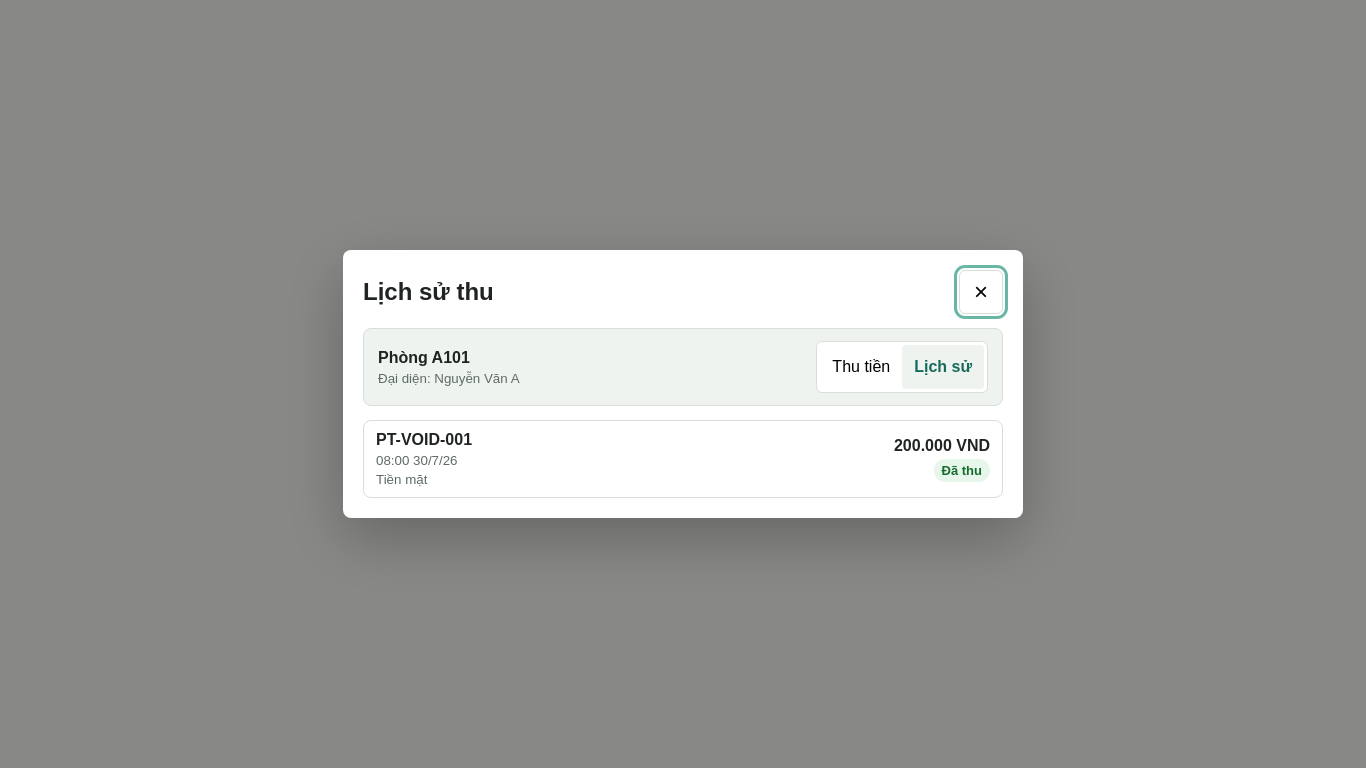
Test case: ReceiptDialog › voids an authorized confirmed receipt and refreshes history and detail
Click the button "PT-VOID-001 08:00 30/7/26 Tiền mặt 200.000 VND Đã thu".
click(424, 440)  # box [363,420,1003,498]
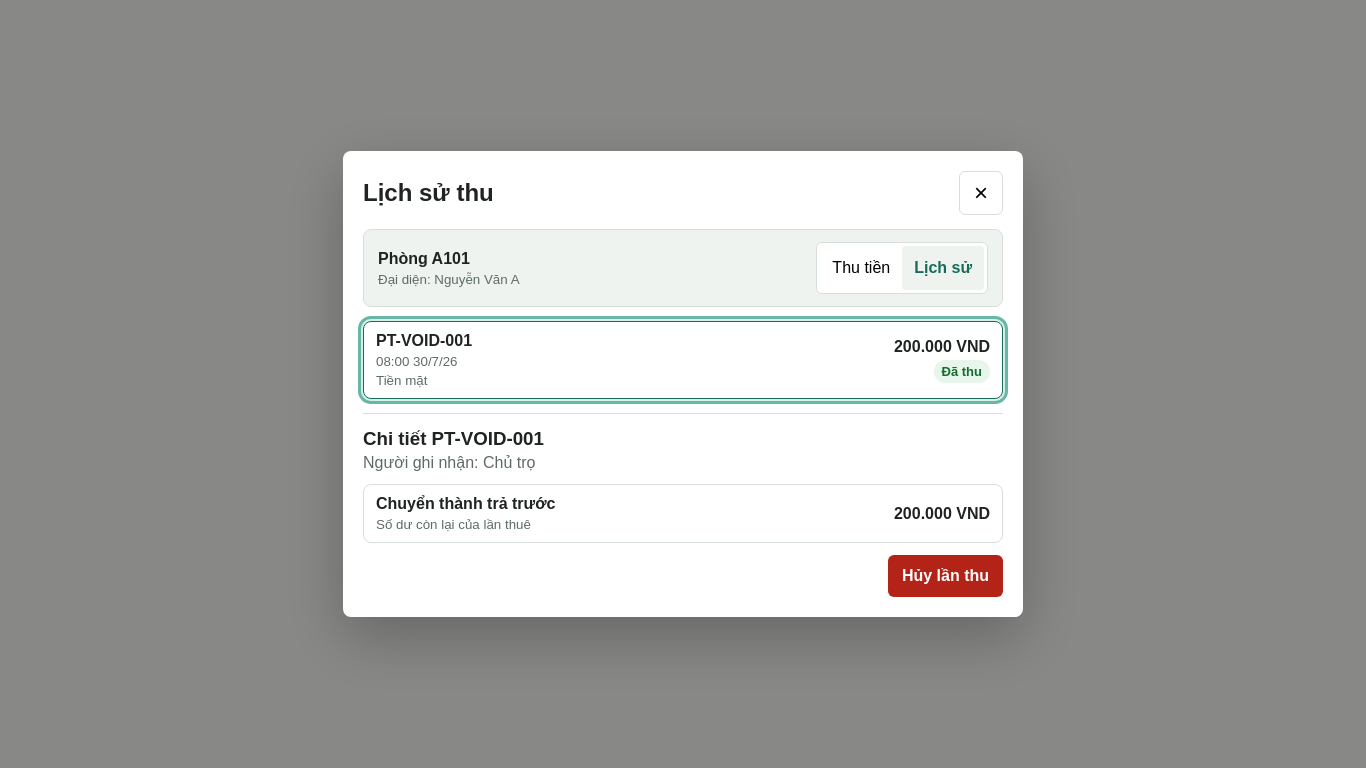
Click the button "Hủy lần thu".
click(945, 576)  # box [888,555,1003,597]
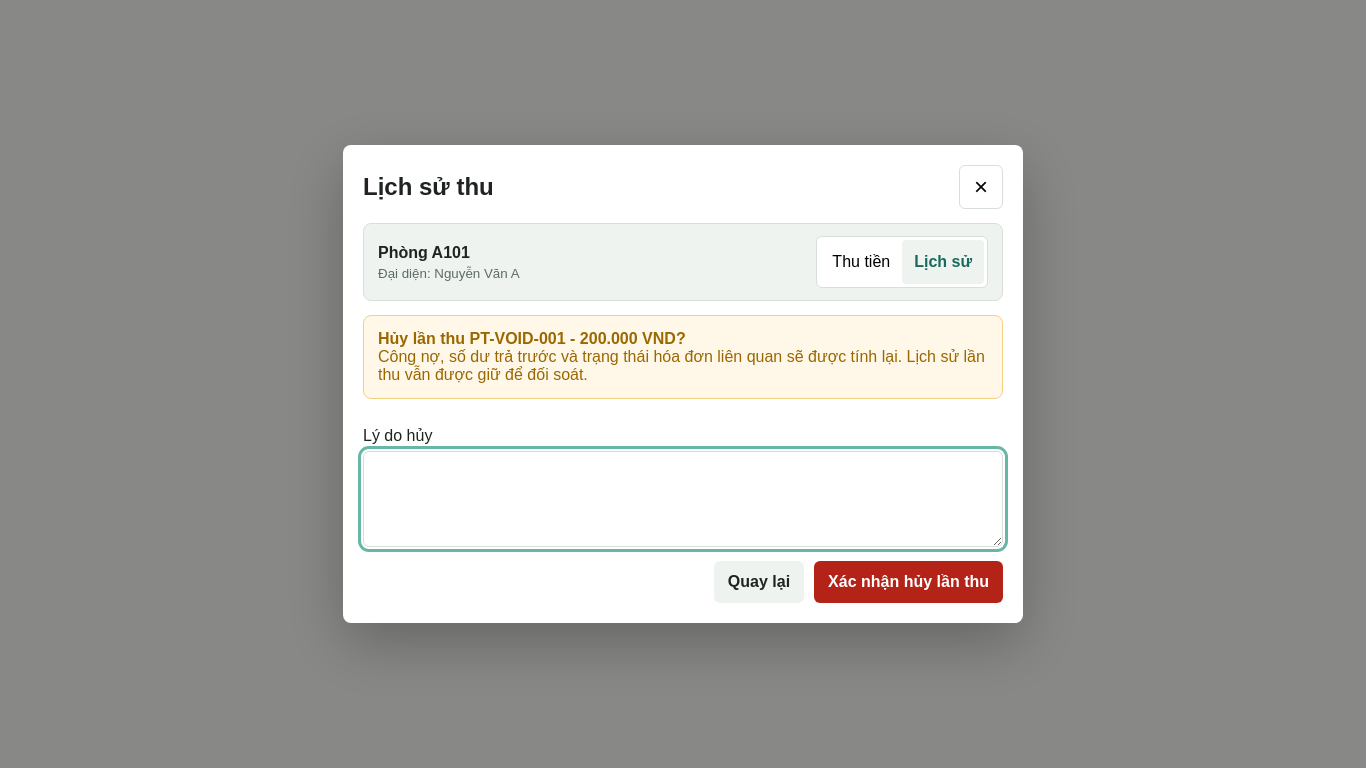
Type "a" into the text box labelled "Lý do hủy".
click(683, 499); type("a")  # box [363,451,1003,547]
Click the button "Xác nhận hủy lần thu".
click(909, 582)  # box [814,561,1003,603]
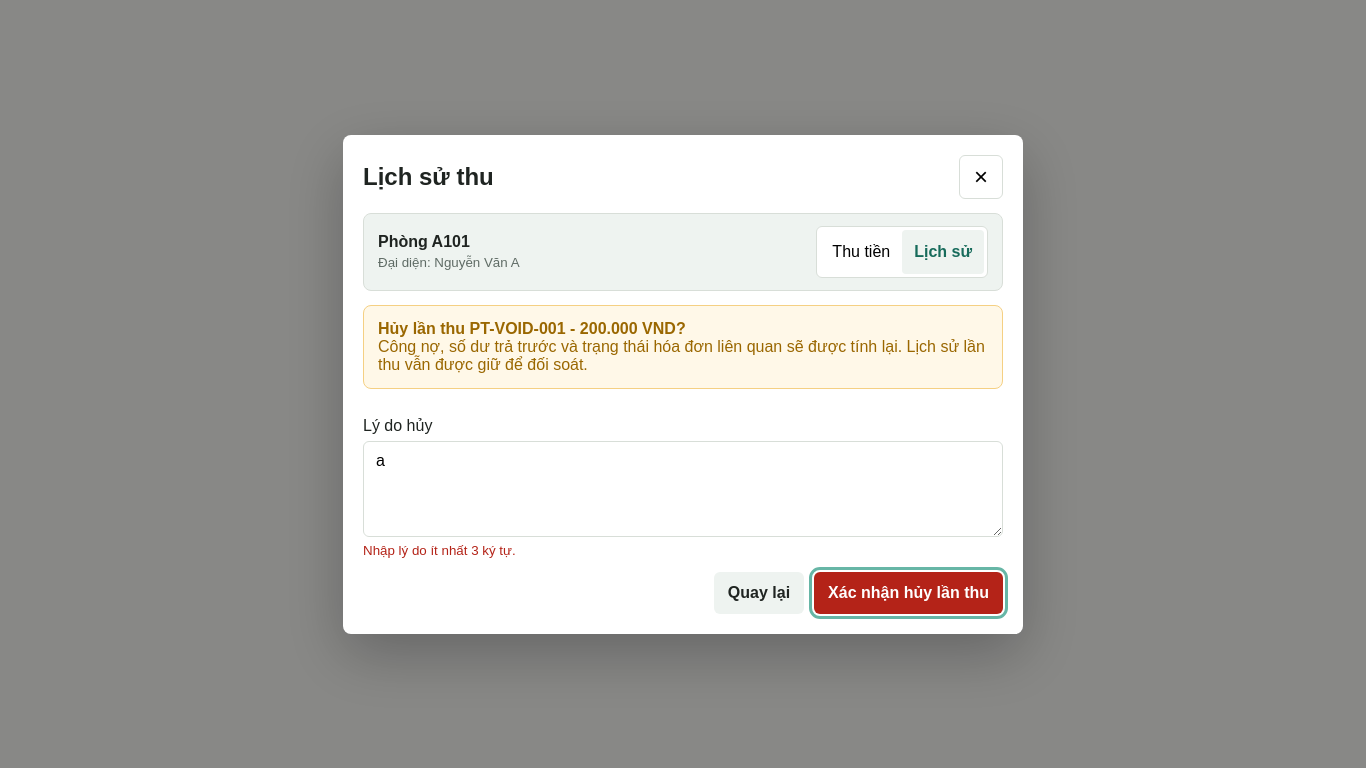
Check: the message shows "Nhập lý do ít nhất 3 ký tự", box [363,542,516,558]
Clear the text box labelled "Lý do hủy" at [683, 488], box [363,440,1003,536]
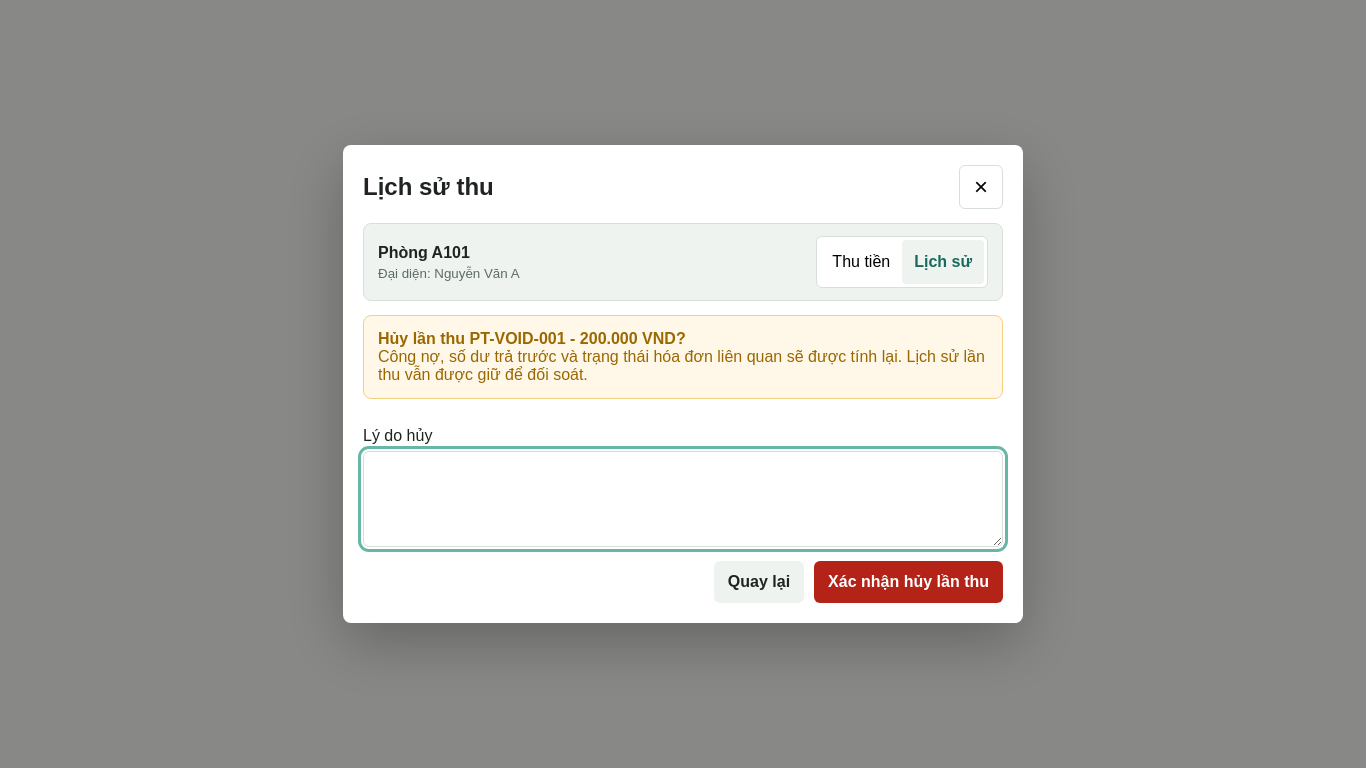
Type "Nhập nhầm số tiền" into the text box labelled "Lý do hủy".
click(683, 499); type("Nhập nhầm số tiền")  # box [363,451,1003,547]
Click the button "Xác nhận hủy lần thu".
click(909, 582)  # box [814,561,1003,603]
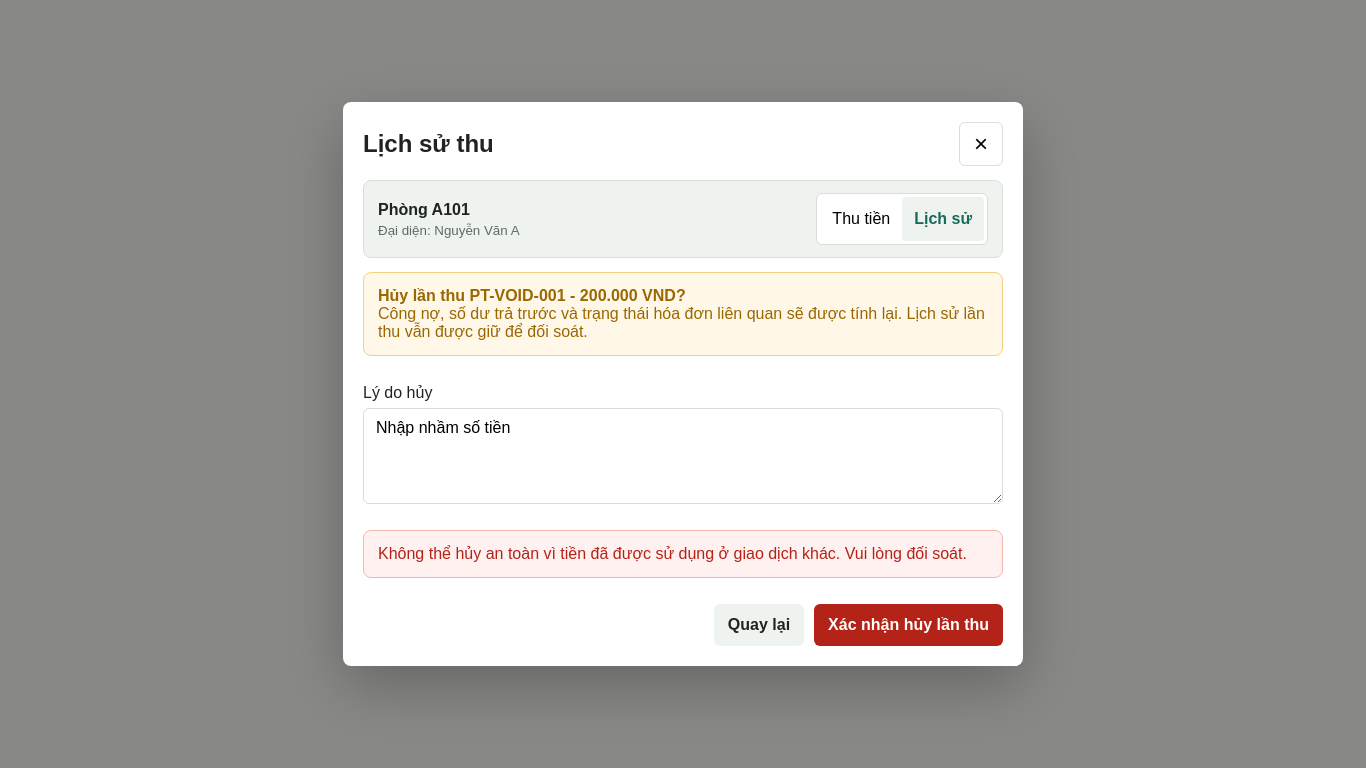
Check: the message shows "Không thể hủy an toàn", box [378,545,967,562]
Click the button "Xác nhận hủy lần thu".
click(909, 625)  # box [814,604,1003,646]
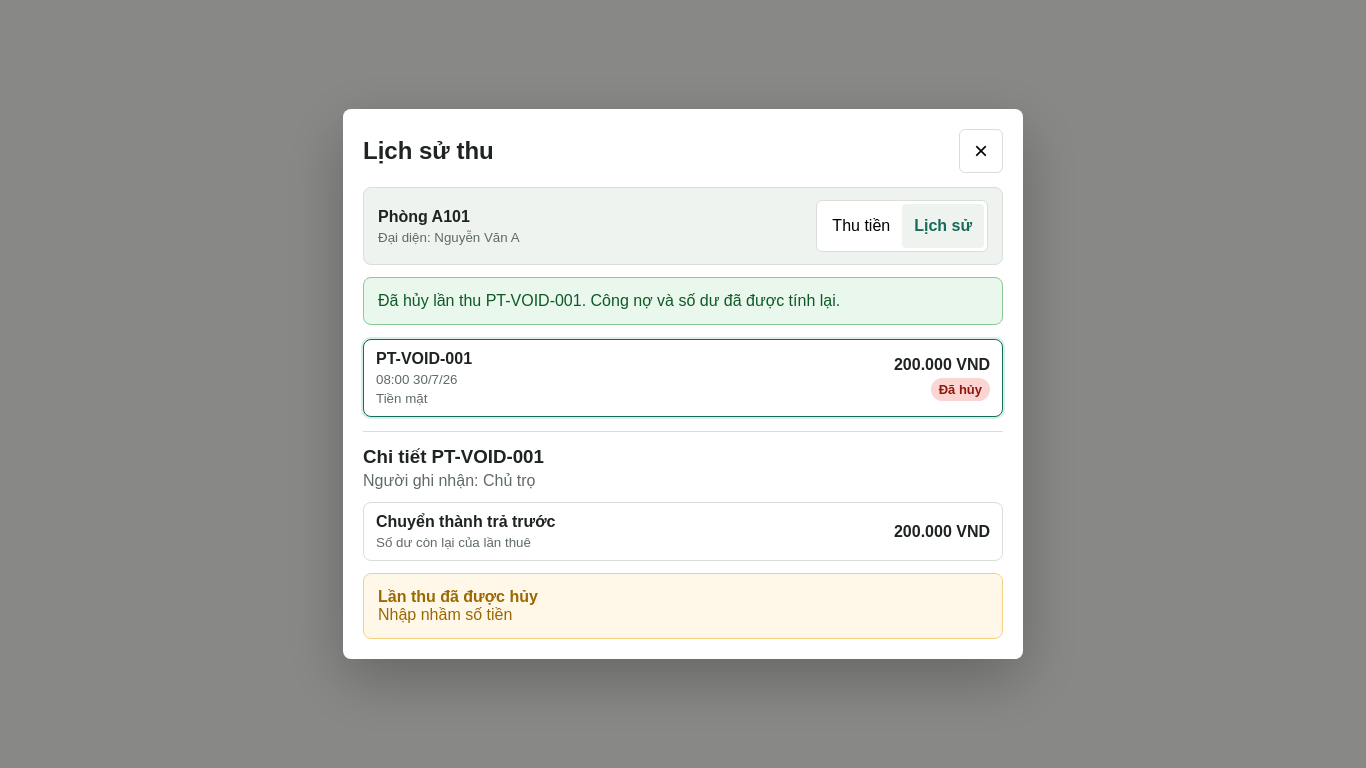
Check: the text "Lần thu đã được hủy" is shown, box [378,588,538,605]
